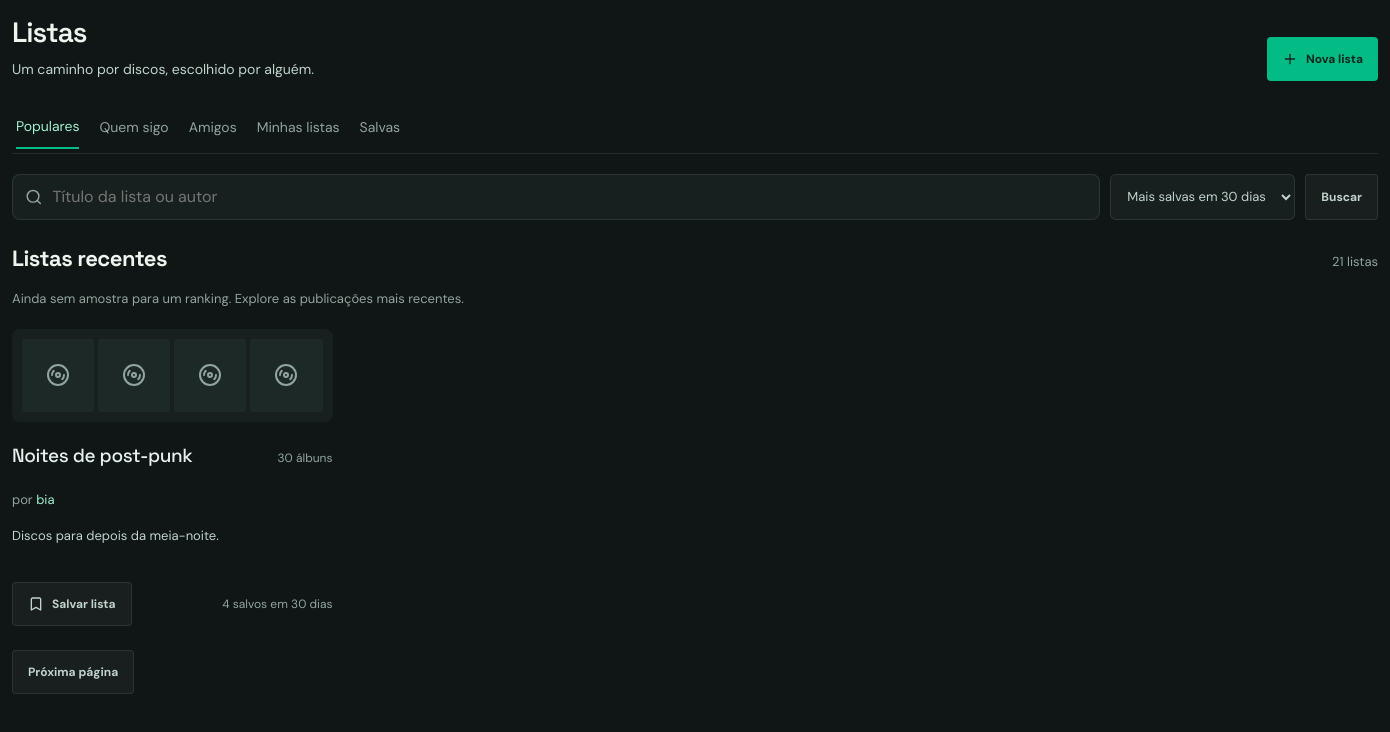
Test: saves optimistically and rolls back an explicit failure
The image size is (1390, 732).
Click the button with aria-label "Salvar Noites de post-punk" at (72, 604), box [12, 582, 132, 626]
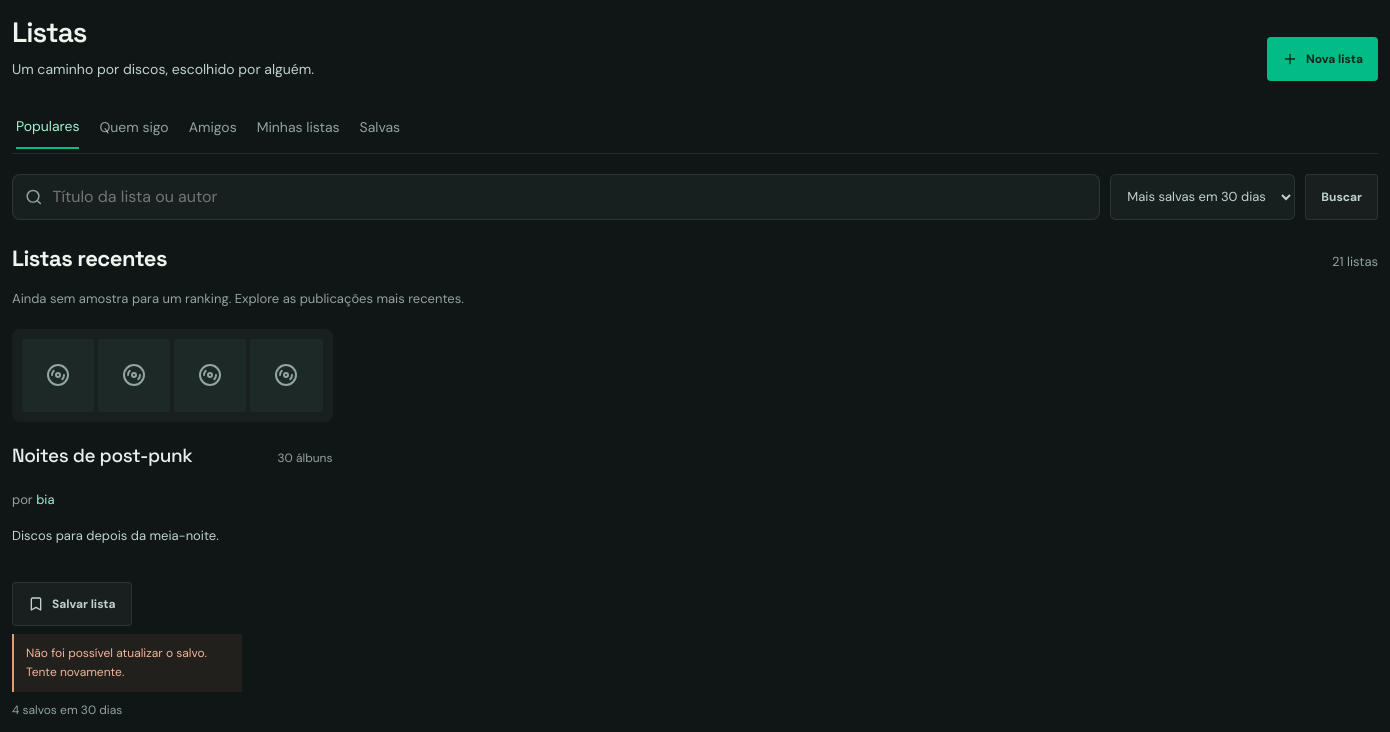
Result: the message "Não foi possível atualizar o salvo. Tente novamente." is shown at [12, 634, 242, 692]
